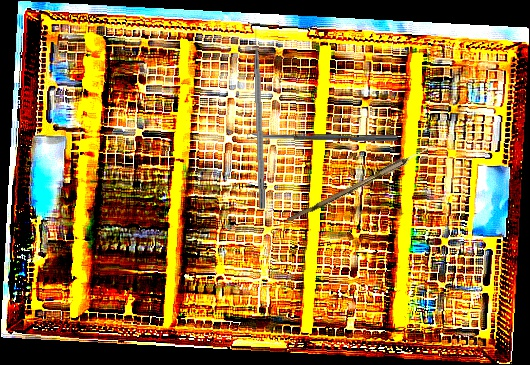Hook Surgical: (252, 24, 268, 210)
Surgical Spoon: (286, 134, 450, 226), (246, 131, 399, 142)
